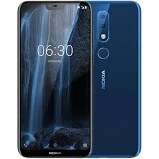nokia: (16, 1, 93, 156), (89, 2, 141, 157)
